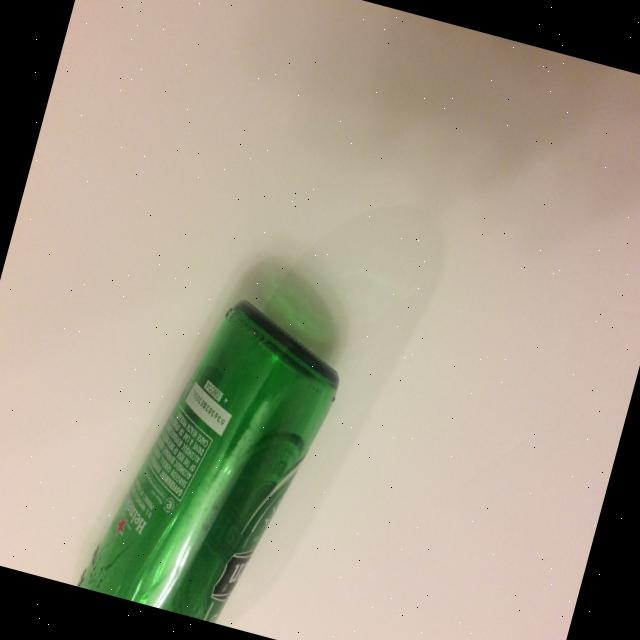glass: (75, 144, 457, 640)
